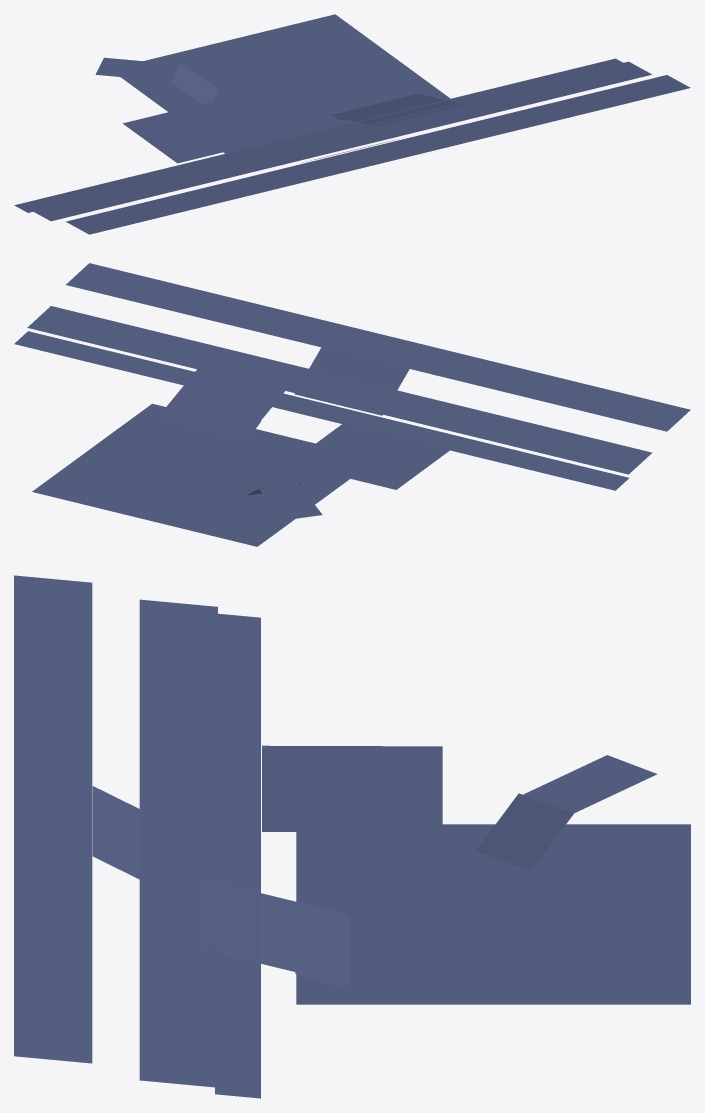
Rendered from diorama-navmesh.glb.
3 views of the same model, one above another, from view 1: azimuth 30°, elevation 25°; view 2: azimuth 150°, elevation 25°; view 3: azimuth 270°, elevation 25° (orthographic). The views are drawn at different scales.
Visible parts, largest first — view 1: Plane; view 2: Plane; view 3: Plane.
Boxes of the visible parts, left/top/right/bottom form: Plane: left=14, top=14, right=690, bottom=234; Plane: left=14, top=263, right=690, bottom=546; Plane: left=14, top=575, right=690, bottom=1098.
Size of the model in its own units: 104 by 7.1 by 62.
